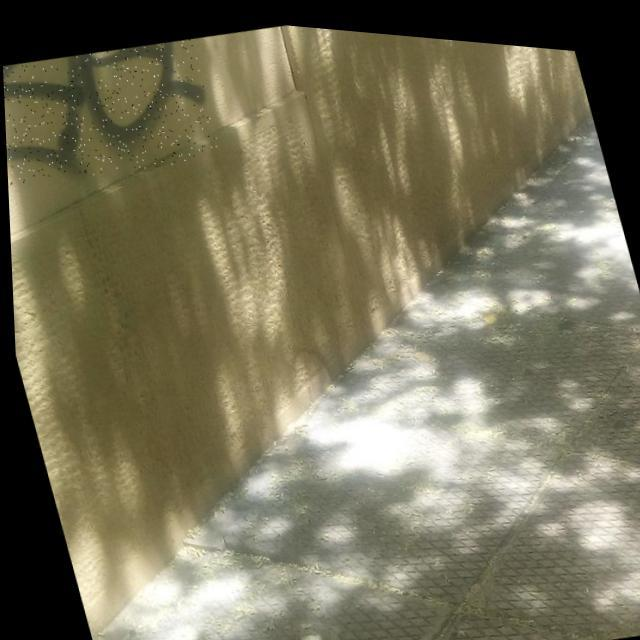-: (1, 21, 224, 211)
